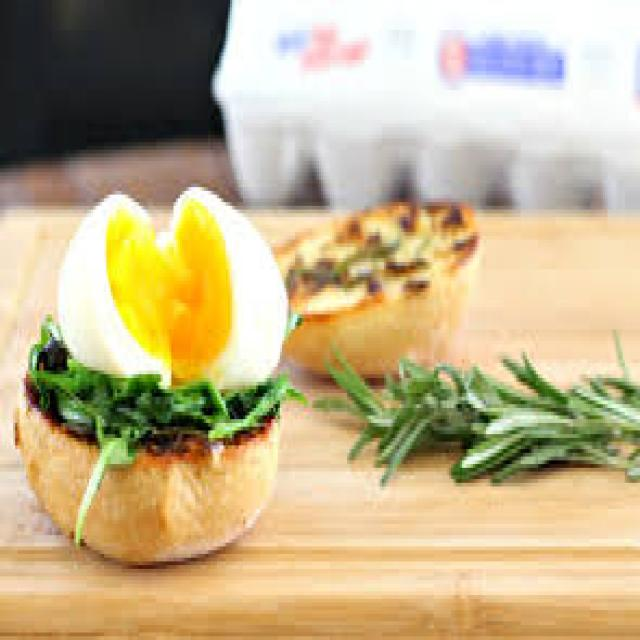boiled egg: (12, 159, 329, 406)
